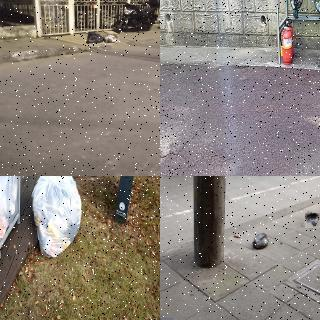Garbage: (27, 176, 83, 261), (251, 230, 271, 249), (304, 212, 320, 228), (87, 31, 105, 44), (106, 34, 119, 44)
